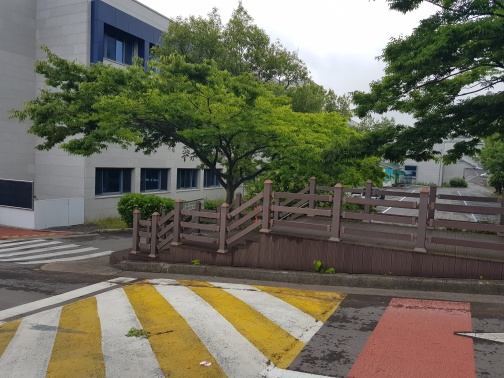College of Social Sciences: (6, 2, 227, 236)
